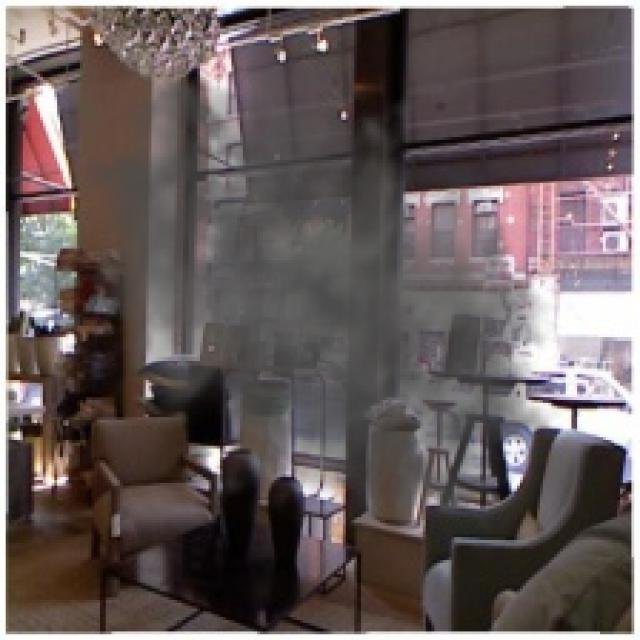smoke: (48, 37, 586, 557)
